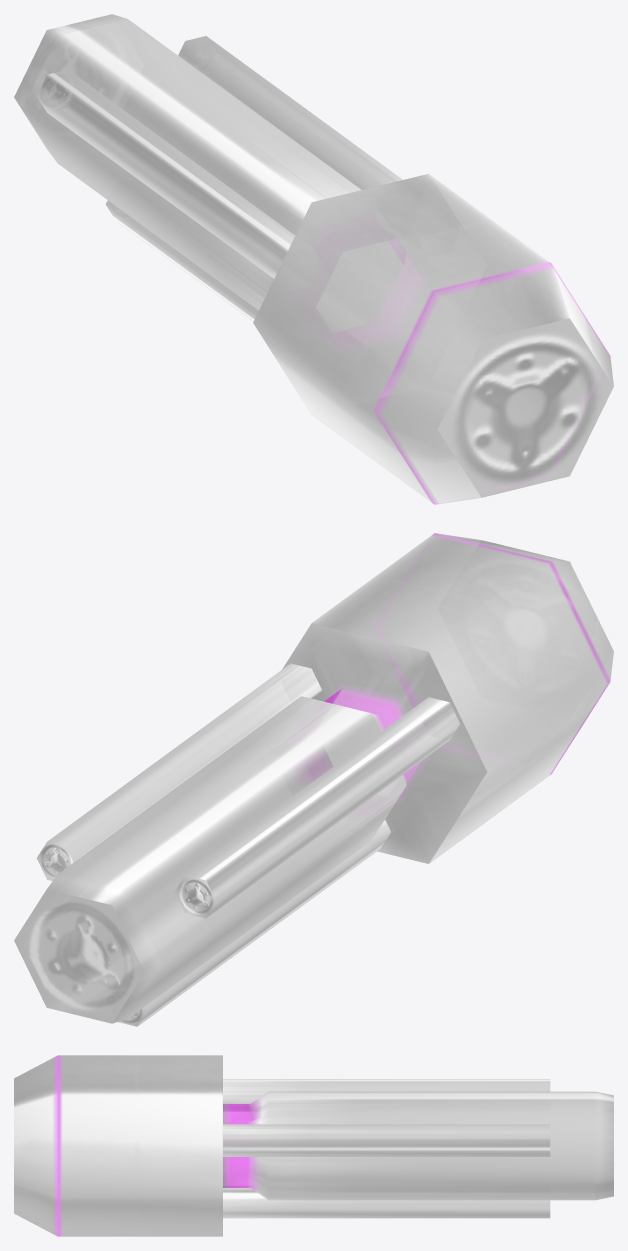
3 views of the same model, one above another, from view 1: azimuth 30°, elevation 25°; view 2: azimuth 150°, elevation 25°; view 3: azimuth 270°, elevation 25° (orthographic). The views are drawn at different scales.
Parts seen in each view (by area): view 1: layer_00_oe0914U; view 2: layer_00_oe0914U; view 3: layer_00_oe0914U.
Boxes of the visible parts, x1,y1,x2,y2 form: layer_00_oe0914U: [14, 14, 613, 504]; layer_00_oe0914U: [14, 533, 613, 1026]; layer_00_oe0914U: [14, 1055, 613, 1236].
Size of the model in its own units: 2 by 1.73 by 6.6.
Materials: 1 (1 with a texture image).
